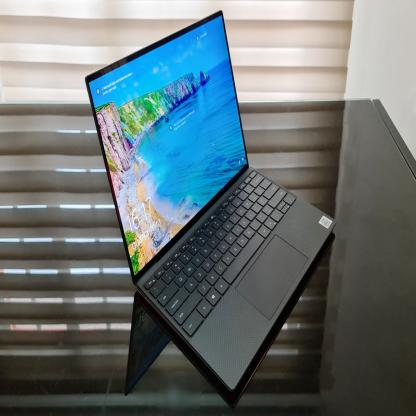NOTEBOOK: (72, 30, 364, 386)
